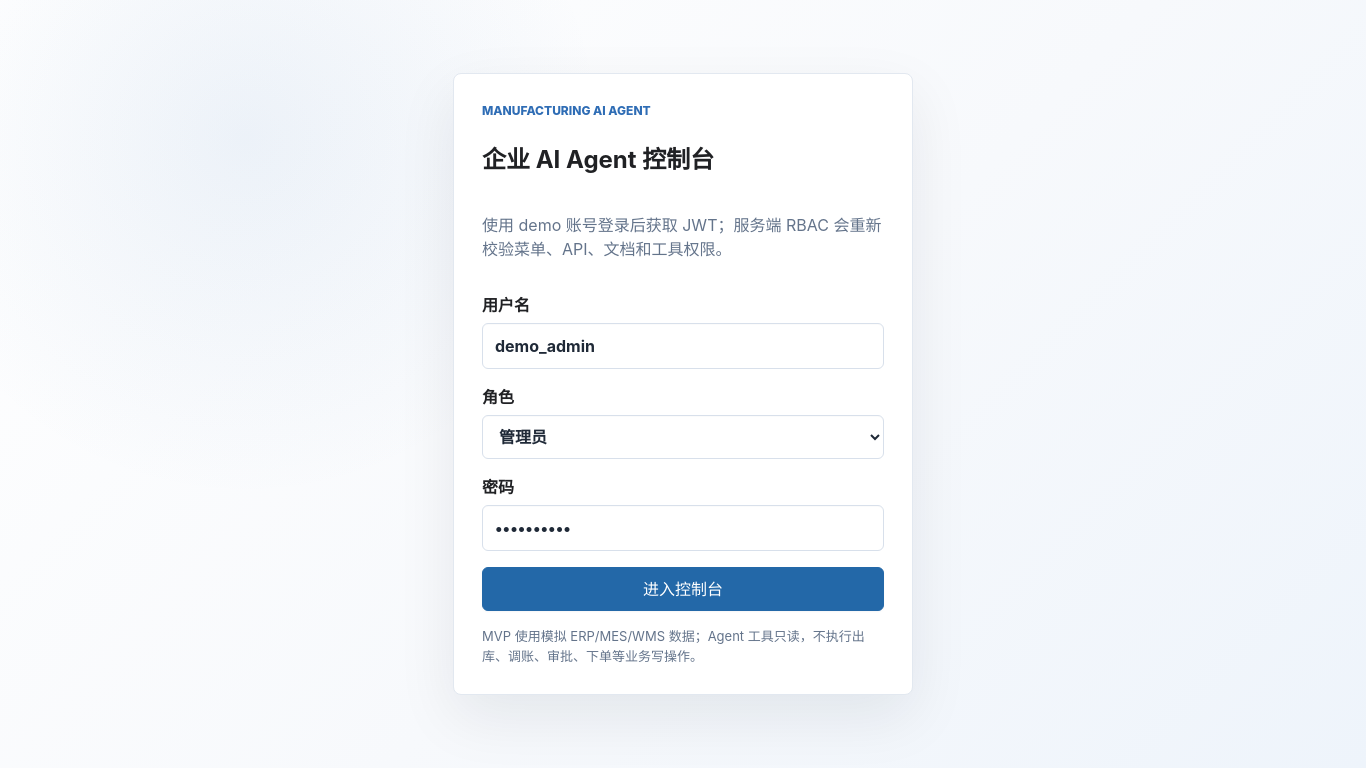
P8 console smoke › uses server RBAC menus and hides admin navigation from normal_user
Replace the text in the field labelled "用户名" with "demo_user" at (683, 346), box top-left (482, 324), bottom-right (884, 370)
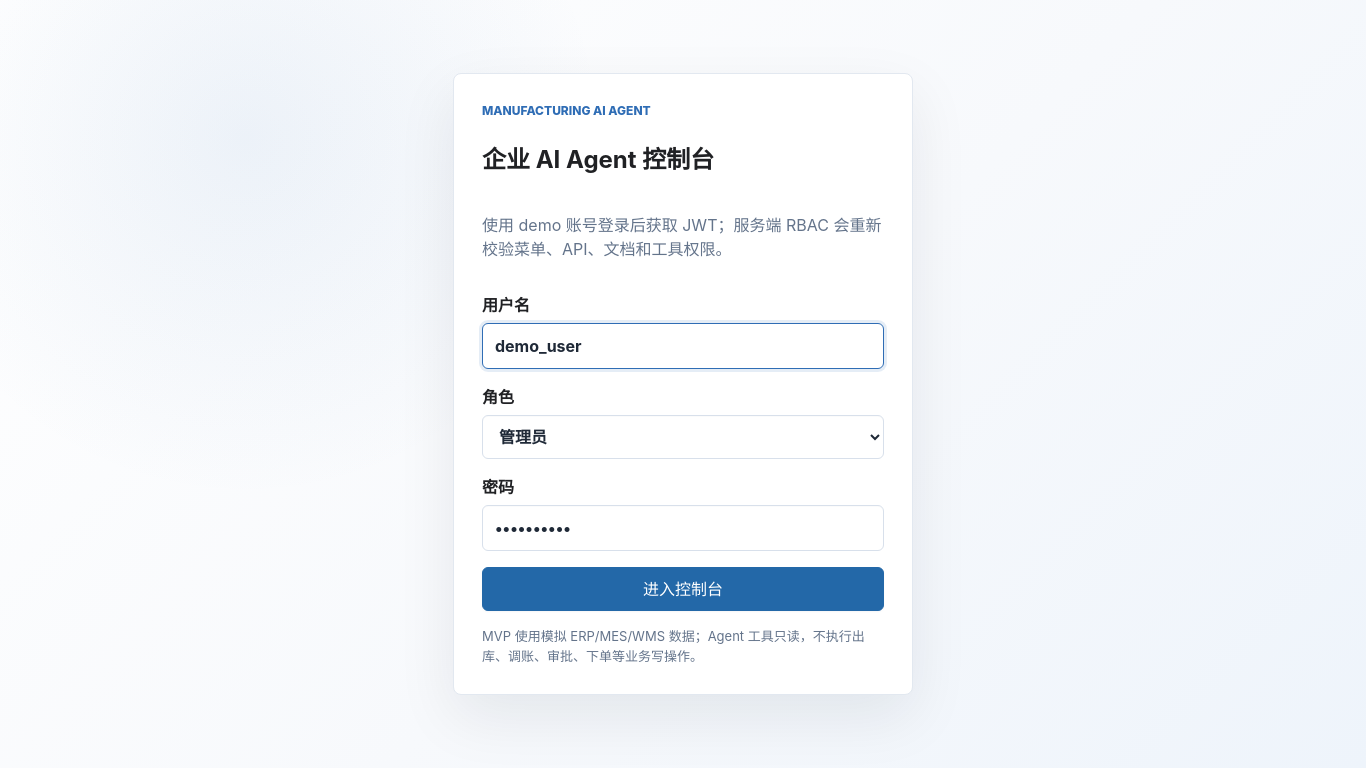
Select "普通用户" in the dropdown labelled "角色" at (683, 438), box top-left (482, 416), bottom-right (884, 460)
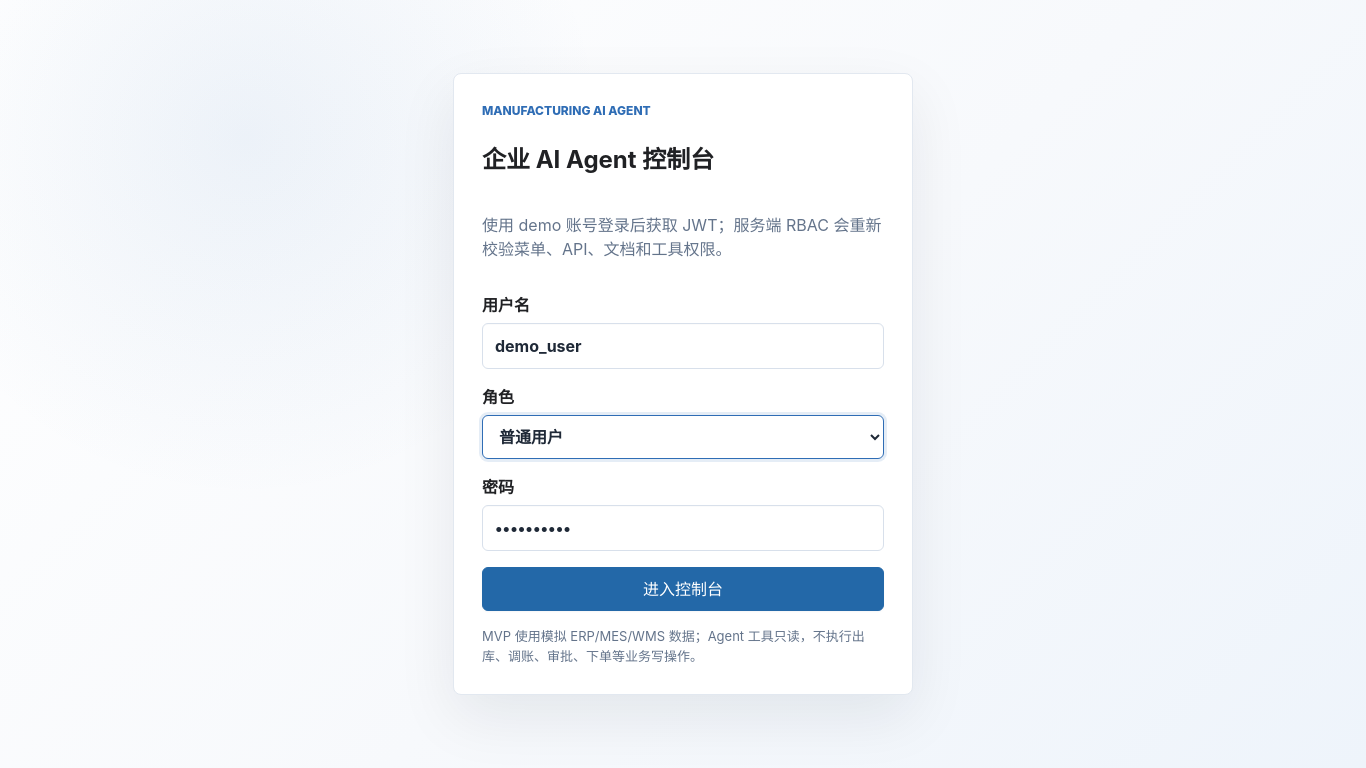
Click the button "进入控制台" at (683, 590), box top-left (482, 568), bottom-right (884, 612)
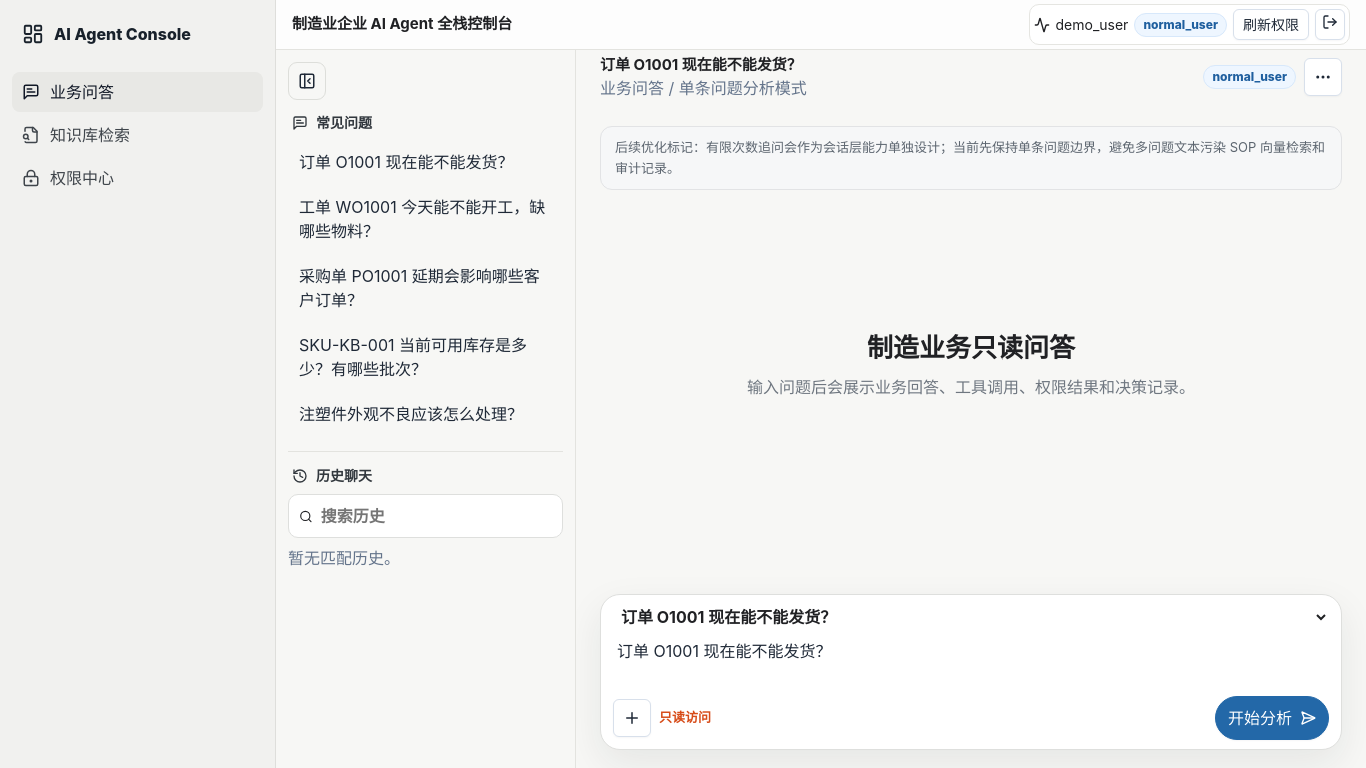
Now the button "业务问答" is shown, box top-left (12, 72), bottom-right (263, 112)
Now the button "知识库检索" is shown, box top-left (12, 115), bottom-right (263, 155)
Now the button "权限中心" is shown, box top-left (12, 158), bottom-right (263, 198)
